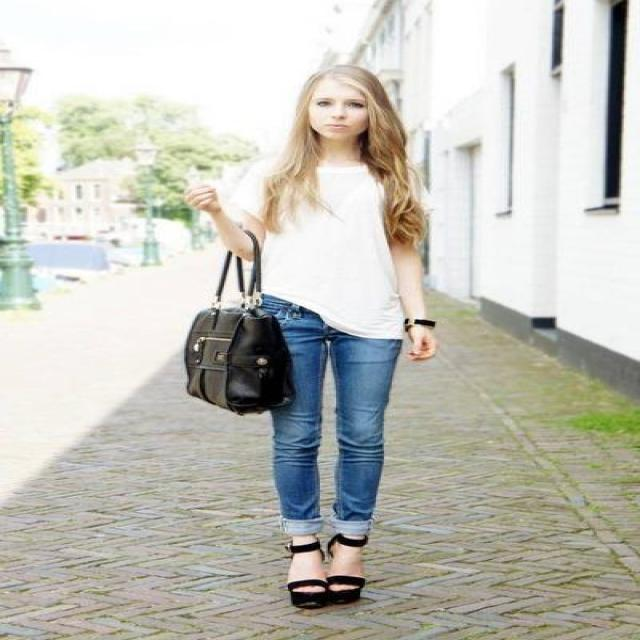bag: (184, 307, 294, 414)
pants: (268, 302, 402, 545)
shirt: (261, 160, 411, 338)
shoe: (284, 533, 382, 609)
